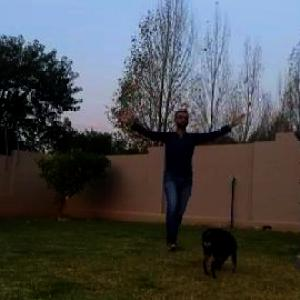takeoff: (123, 91, 258, 261)
